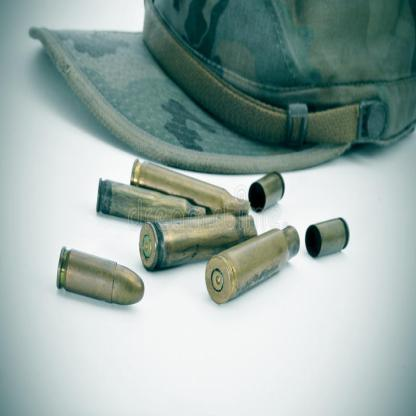Bullet: (50, 241, 148, 321)
